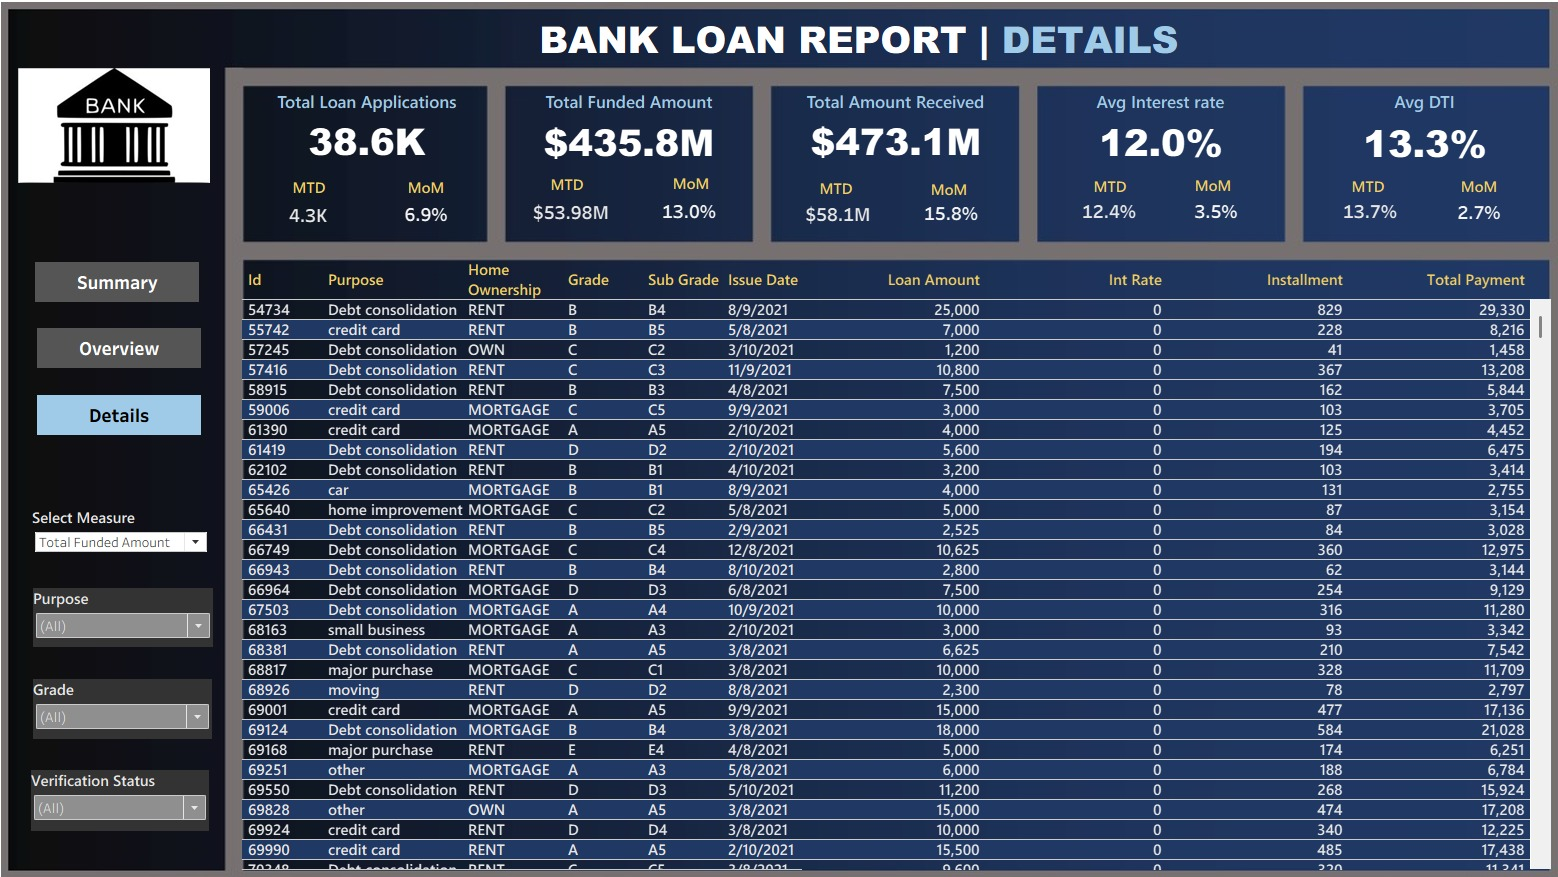

This screenshot's page, from the dashboard's own definition file:
{"tool":"tableau","page":{"name":"DETAILS","canvas":[1600,900],"ordinal":0},"visuals":[{"type":"image","param":"Image/Tableau Background 3.jpg","box":[8,8,1584,884]},{"type":"text","box":[556,24,694,50]},{"type":"image","param":"Image/bank logo.jpg","box":[38,78,193,115]},{"type":"worksheet","title":"Total Loan Applications","mark":"Automatic","box":[264,96,246,72]},{"type":"worksheet","title":"Total Funded Amount","mark":"Automatic","box":[525,96,248,73]},{"type":"worksheet","title":"Total Amount Received","mark":"Automatic","box":[793,96,245,72]},{"type":"worksheet","title":"Avg Interest rate","mark":"Automatic","box":[1056,96,249,74]},{"type":"worksheet","title":"Avg DTI","mark":"Automatic","box":[1322,96,245,76]},{"type":"text","box":[661,178,100,30]},{"type":"text","box":[537,179,100,30]},{"type":"text","box":[1183,180,100,30]},{"type":"text","box":[1080,181,100,30]},{"type":"text","box":[1338,181,100,30]},{"type":"text","box":[1449,181,100,30]},{"type":"text","box":[279,182,100,30]},{"type":"text","box":[396,182,100,30]},{"type":"text","box":[806,183,100,30]},{"type":"text","box":[919,184,100,30]},{"type":"worksheet","title":"MTD Avg Interest Rate","mark":"Automatic","box":[1076,198,106,45]},{"type":"worksheet","title":"MoM Total Funded Amount","mark":"Automatic","box":[664,199,89,43]},{"type":"worksheet","title":"MoM Avg Interest Rate","mark":"Automatic","box":[1184,200,104,42]},{"type":"worksheet","title":"MTD Total Funded Amount","mark":"Automatic","box":[545,201,91,42]},{"type":"worksheet","title":"MTD Avg DTI","mark":"Automatic","box":[1340,201,100,40]},{"type":"worksheet","title":"MoM Avg DTI","mark":"Automatic","box":[1450,201,97,42]},{"type":"worksheet","title":"MoM Total Amount Received","mark":"Automatic","box":[916,203,109,40]},{"type":"worksheet","title":"MTD Total Amount Received","mark":"Automatic","box":[808,205,99,38]},{"type":"worksheet","title":"MoM Loan Applications","mark":"Automatic","box":[403,206,85,35]},{"type":"worksheet","title":"MTD Total Loan Applications","mark":"Automatic","box":[278,207,99,36]},{"type":"worksheet","title":"Details Tab","mark":"Automatic","rows":["id","purpose","home_ownership","grade","sub_grade","issue_date"],"box":[262,269,1309,611]},{"type":"dashboard-object","box":[55,272,164,40]},{"type":"dashboard-object","box":[57,338,164,40]},{"type":"dashboard-object","box":[57,405,164,40]},{"type":"parameter","param":"[Parameters].[Parameter 1]","box":[52,517,178,48]},{"type":"filter","title":"Avg DTI","param":"[federated.17a3cjb1kal9qm1h4xumb0o6jc69].[none:purpose:nk]","box":[53,598,180,59]},{"type":"filter","title":"Avg DTI","param":"[federated.17a3cjb1kal9qm1h4xumb0o6jc69].[none:grade:nk]","box":[53,689,179,60]},{"type":"filter","title":"Avg DTI","param":"[federated.17a3cjb1kal9qm1h4xumb0o6jc69].[none:verification_status:nk]","box":[51,780,178,61]}]}

Visuals, with their boxes in screenshot pixels (x1, y1, x2, y2), scaled from the page's 1600x900 canvas onto the 1558x877 screenshot:
image: 8:8:1550:869
text: 541:23:1217:72
image: 37:76:225:188
"Total Loan Applications" worksheet: 257:94:497:164
"Total Funded Amount" worksheet: 511:94:753:165
"Total Amount Received" worksheet: 772:94:1011:164
"Avg Interest rate" worksheet: 1028:94:1271:166
"Avg DTI" worksheet: 1287:94:1526:168
text: 644:173:741:203
text: 523:174:620:204
text: 1152:175:1249:205
text: 1052:176:1149:206
text: 1303:176:1400:206
text: 1411:176:1508:206
text: 272:177:369:207
text: 386:177:483:207
text: 785:178:882:208
text: 895:179:992:209
"MTD Avg Interest Rate" worksheet: 1048:193:1151:237
"MoM Total Funded Amount" worksheet: 647:194:733:236
"MoM Avg Interest Rate" worksheet: 1153:195:1254:236
"MTD Total Funded Amount" worksheet: 531:196:619:237
"MTD Avg DTI" worksheet: 1305:196:1402:235
"MoM Avg DTI" worksheet: 1412:196:1506:237
"MoM Total Amount Received" worksheet: 892:198:998:237
"MTD Total Amount Received" worksheet: 787:200:883:237
"MoM Loan Applications" worksheet: 392:201:475:235
"MTD Total Loan Applications" worksheet: 271:202:367:237
"Details Tab" worksheet: 255:262:1530:858
dashboard-object: 54:265:213:304
dashboard-object: 56:329:215:368
dashboard-object: 56:395:215:434
parameter: 51:504:224:551
"Avg DTI" filter: 52:583:227:640
"Avg DTI" filter: 52:671:226:730
"Avg DTI" filter: 50:760:223:820
